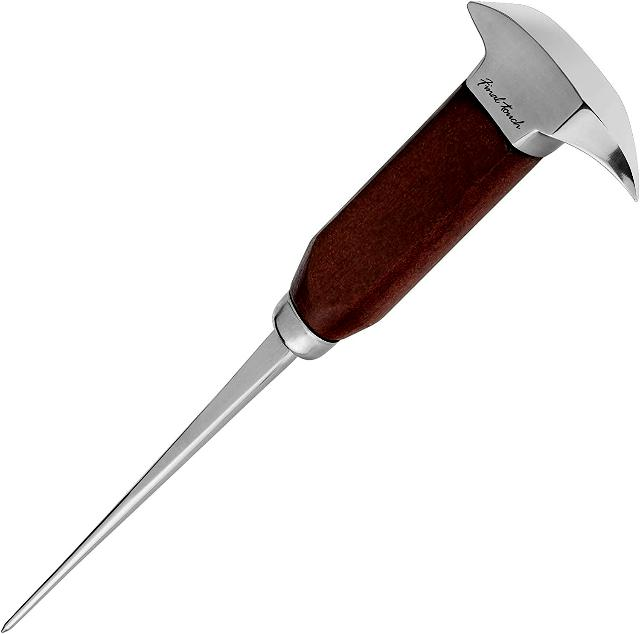ice pick: (1, 0, 640, 630)
